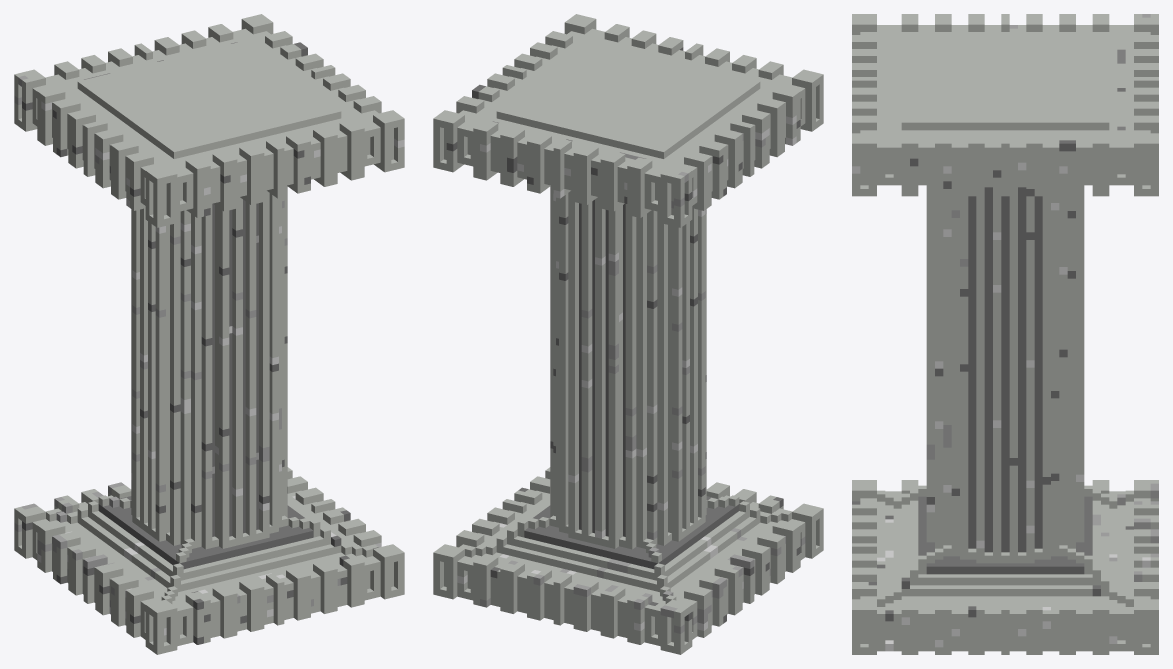
File: Piller.obj
The picture shows the model from 3 angles, left to right: view 1: azimuth 30°, elevation 25°; view 2: azimuth 150°, elevation 25°; view 3: azimuth 270°, elevation 25°; orthographic projection. The views are drawn at different scales.
Size of the model in its own units: 37 by 68 by 37.
1 material, 1 textured.
